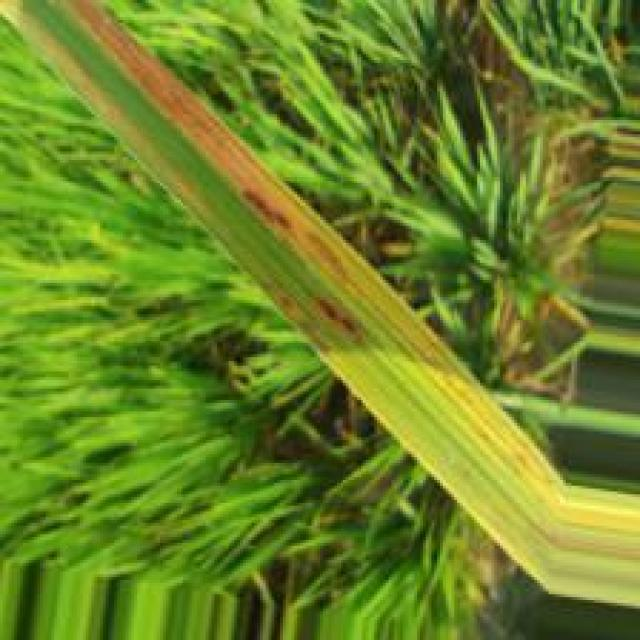Narrow_Brown_Leaf_Spot: (51, 0, 568, 506), (0, 0, 387, 368)
